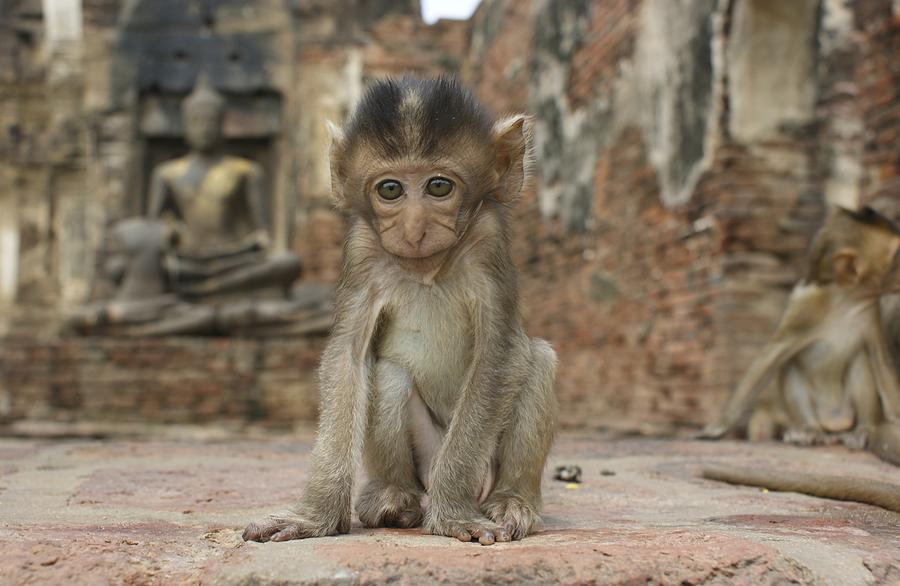monkey: (244, 71, 563, 557)
